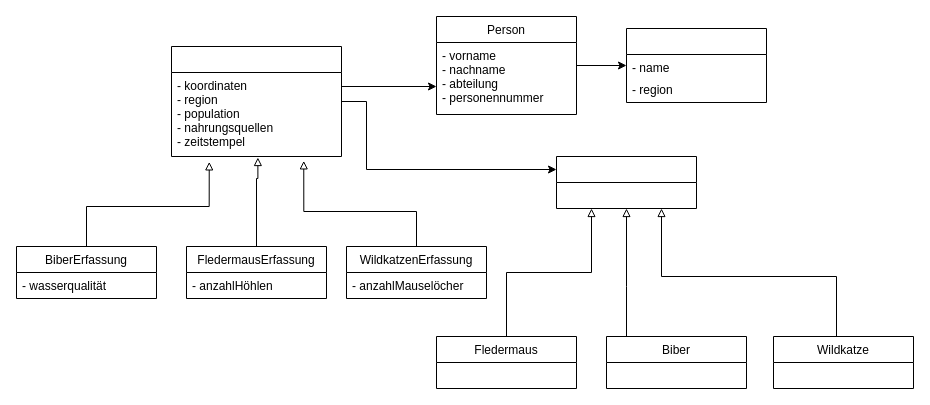
This 930x405 diagram has some shape labels left out. The box of each missing label's shape, as (x1, y1, x2, y2) in pixels:
Art: (556, 156, 696, 208)
Erfassung: (170, 46, 342, 156)
Kartierteam: (626, 28, 766, 102)
